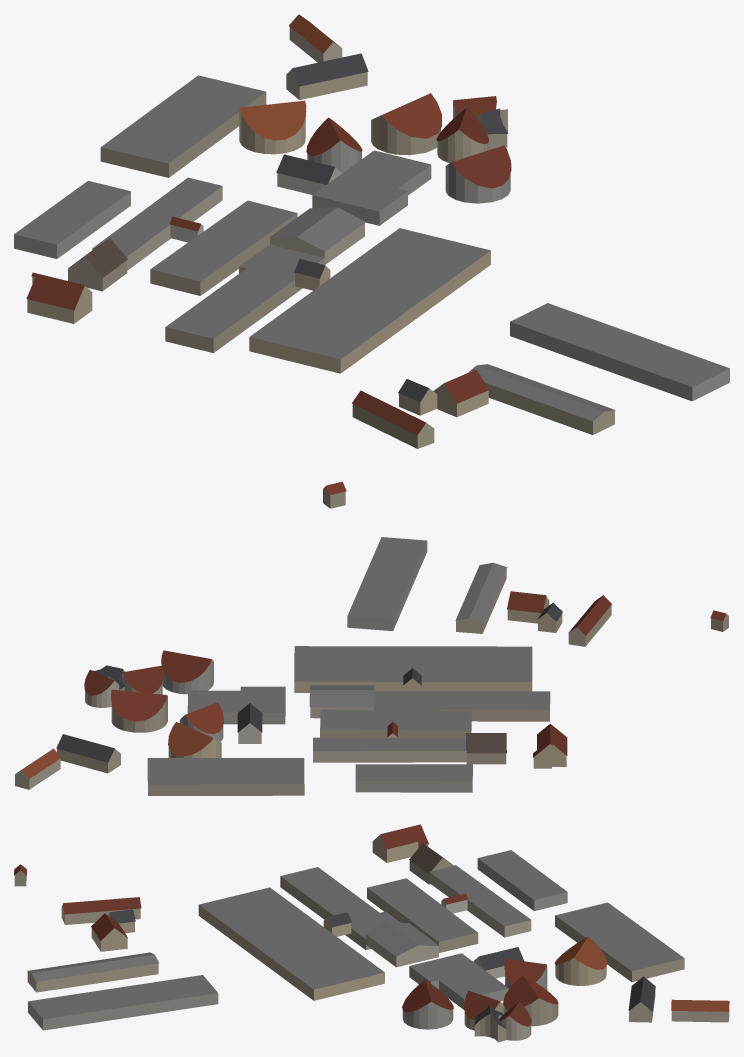
3 renders of one model, top to bottom at view 1: azimuth 30°, elevation 25°; view 2: azimuth 150°, elevation 25°; view 3: azimuth 270°, elevation 25°, orthographic. The views are drawn at different scales.
Parts seen in each view (by area): view 1: buildings; view 2: buildings; view 3: buildings.
Boxes of the visible parts, x1=… form: buildings: x1=14, y1=14, x2=729, y2=508; buildings: x1=15, y1=537, x2=728, y2=795; buildings: x1=14, y1=824, x2=729, y2=1042.
Size of the model in its own units: 237 by 26.62 by 349.
